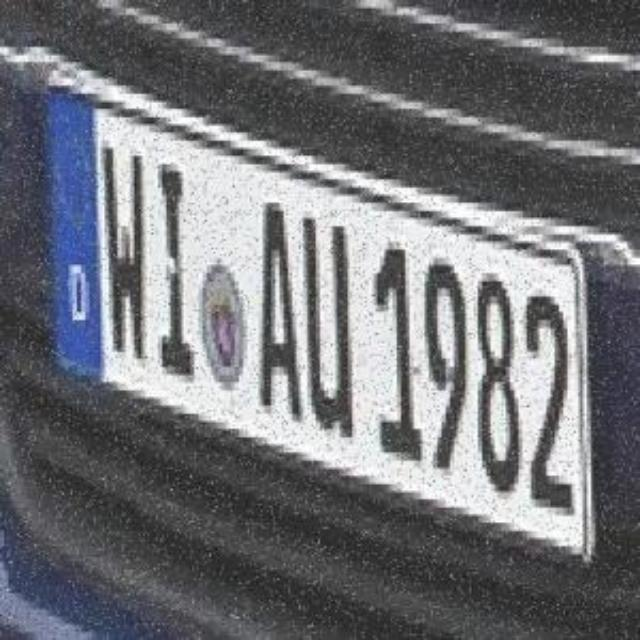License Plate: (42, 74, 600, 548)
